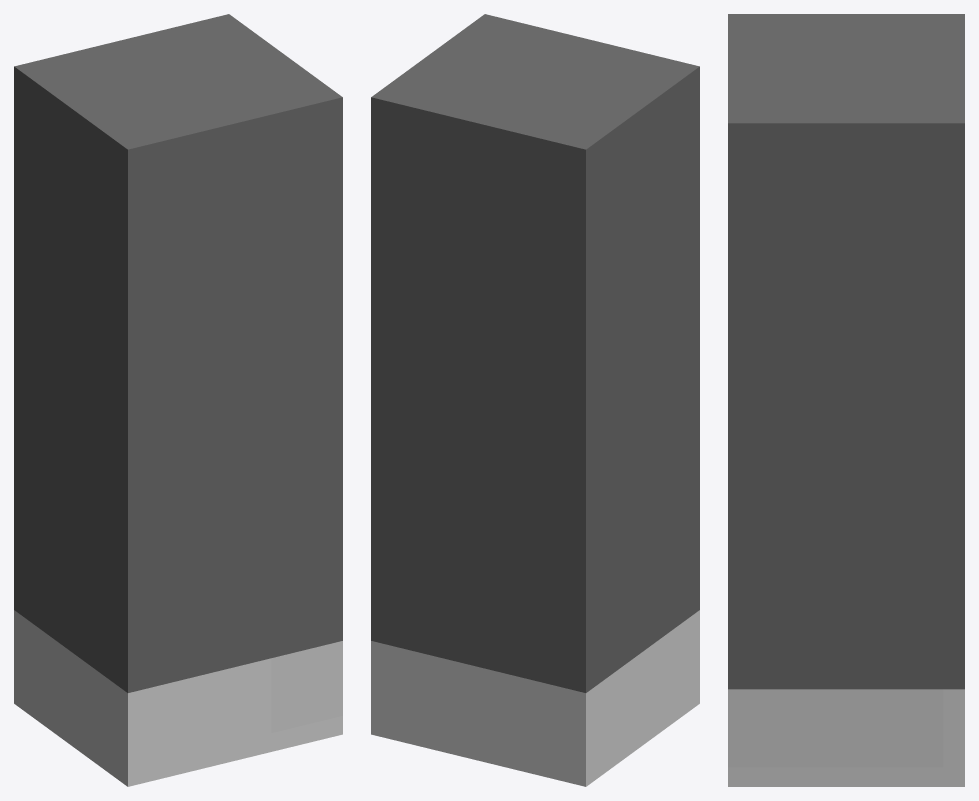
The model's file is skeleton-3.obj.
The picture shows the model from 3 angles, left to right: view 1: azimuth 30°, elevation 25°; view 2: azimuth 150°, elevation 25°; view 3: azimuth 270°, elevation 25°; orthographic projection. The views are drawn at different scales.
Size of the model in its own units: 1.2 by 3.4 by 1.1.
1 material, 1 textured.
